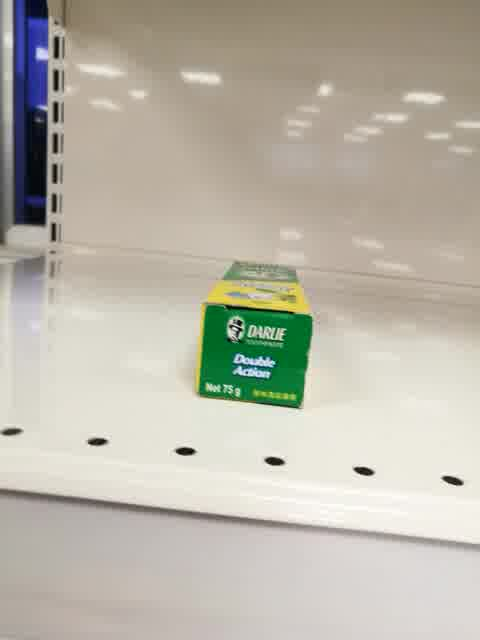toothpaste: (194, 260, 312, 416)
